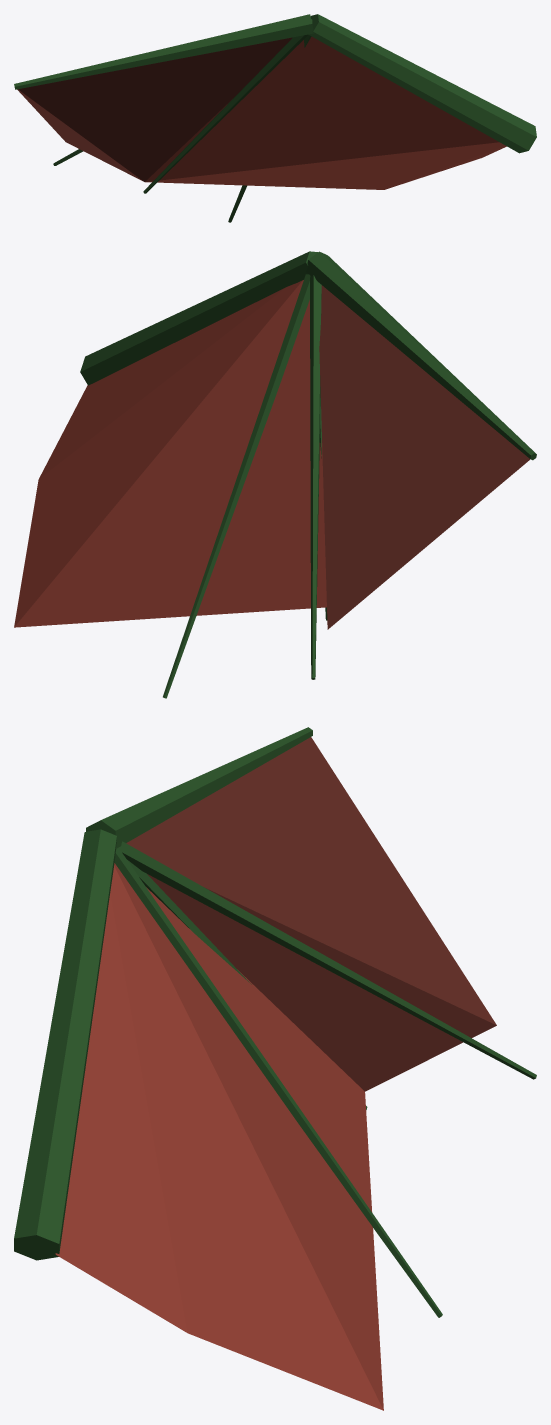
The model's file is dragon_0_wing_r.glb.
3 views of the same model, one above another, from view 1: azimuth 30°, elevation 25°; view 2: azimuth 150°, elevation 25°; view 3: azimuth 270°, elevation 25° (orthographic). The views are drawn at different scales.
Parts seen in each view (by area): view 1: dragon_0_wing_r; view 2: dragon_0_wing_r; view 3: dragon_0_wing_r.
Boxes of the visible parts, <box> form: dragon_0_wing_r: <box>14,14,536,222</box>; dragon_0_wing_r: <box>14,251,536,698</box>; dragon_0_wing_r: <box>14,727,536,1410</box>.
Size of the model in its own units: 2.25 by 1.4 by 1.39.
